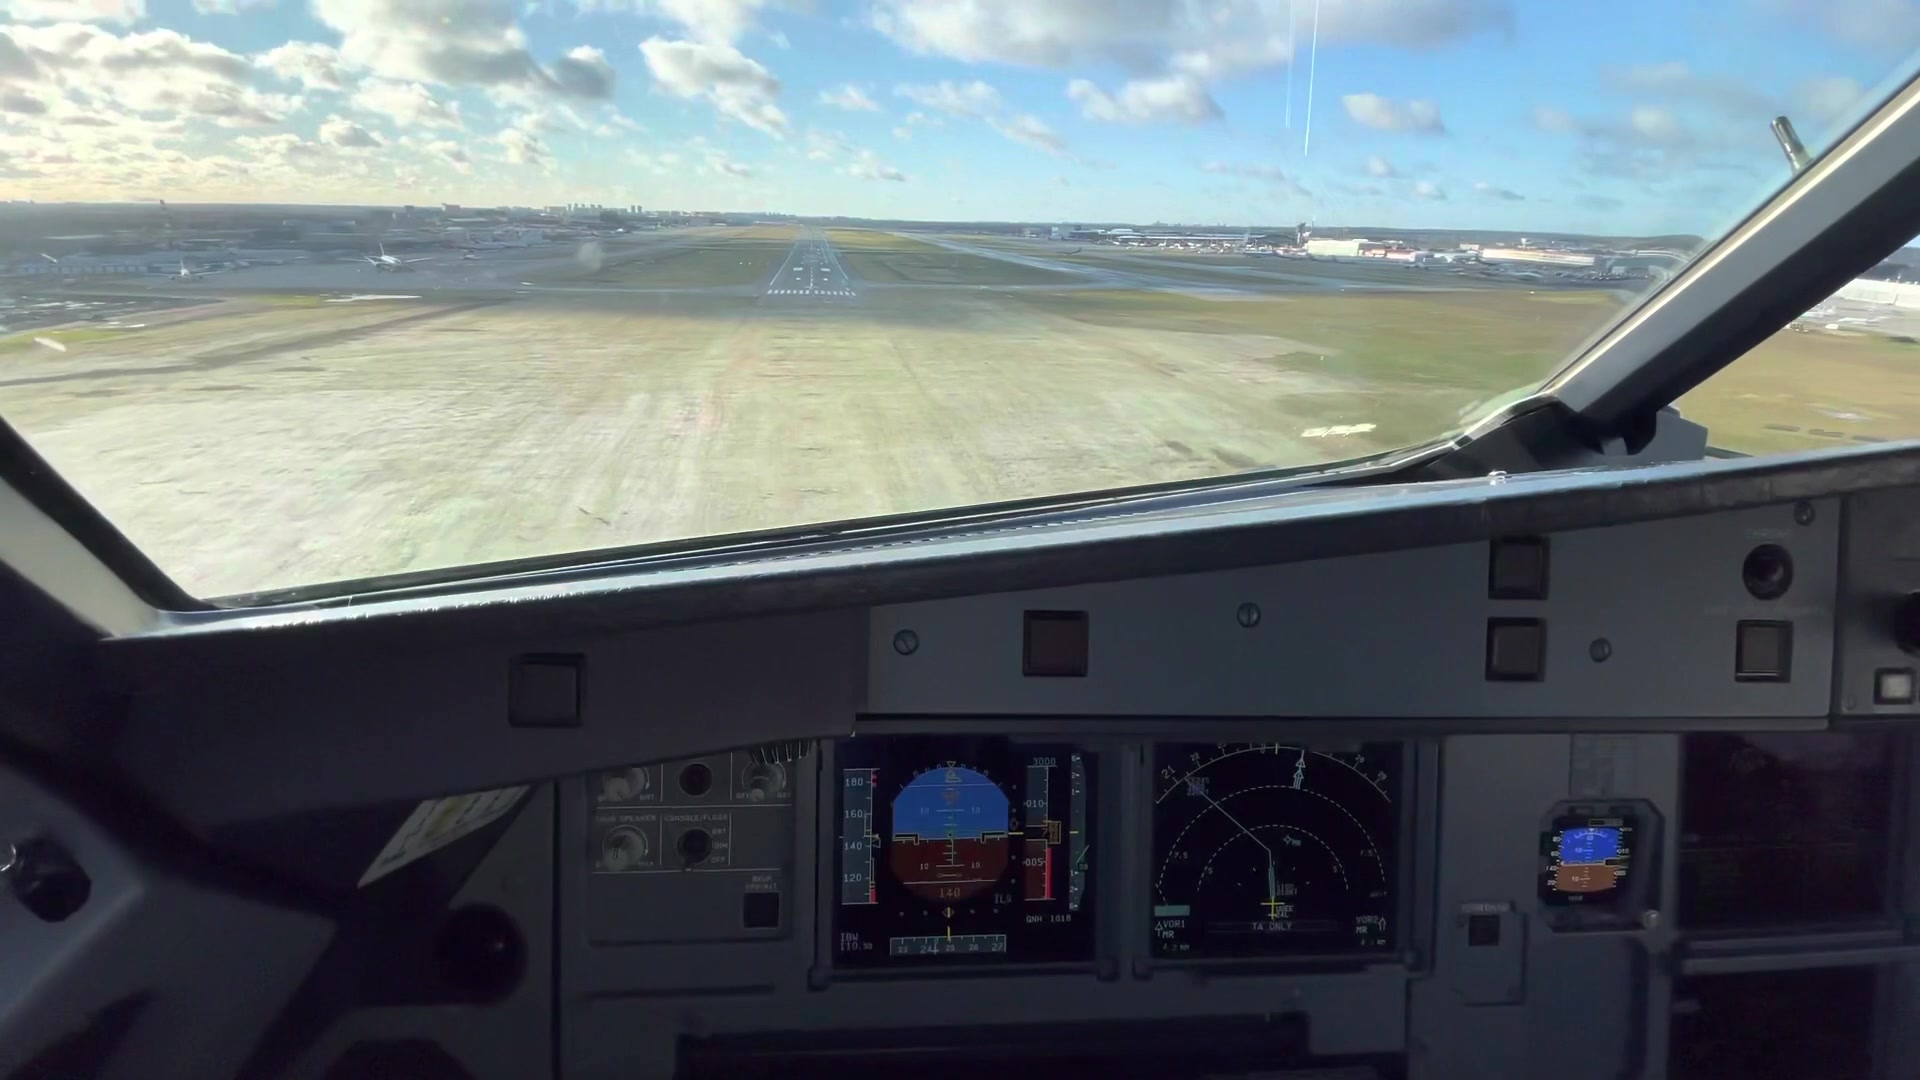entrance: (767, 289, 858, 295)
runway: (761, 228, 864, 299)
